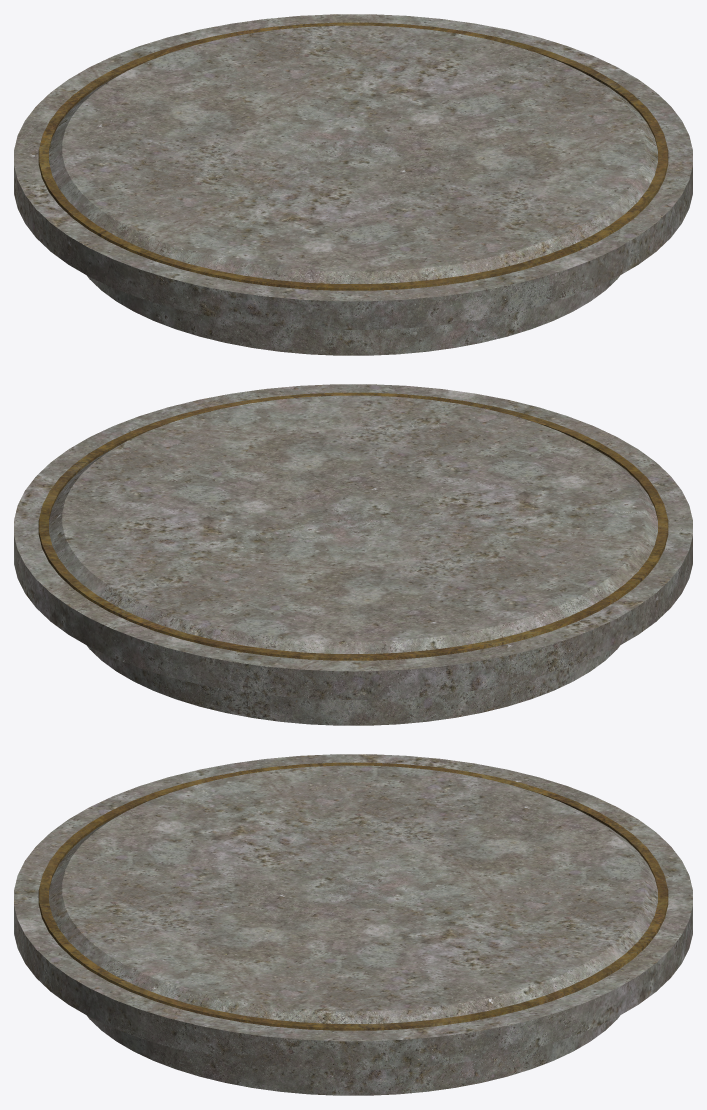
The model's file is mg_12__plate_1.fbx.
3 renders of one model, top to bottom at view 1: azimuth 30°, elevation 25°; view 2: azimuth 150°, elevation 25°; view 3: azimuth 270°, elevation 25°, orthographic.
Parts seen in each view (by area): view 1: mg_12__plate_1; view 2: mg_12__plate_1; view 3: mg_12__plate_1.
Part boxes in pixels (x1,y1,x2,y2): mg_12__plate_1: (14,14,692,355); mg_12__plate_1: (14,384,692,725); mg_12__plate_1: (14,754,692,1095).
Bounding box in the file's own units: 181 × 25.81 × 181.
